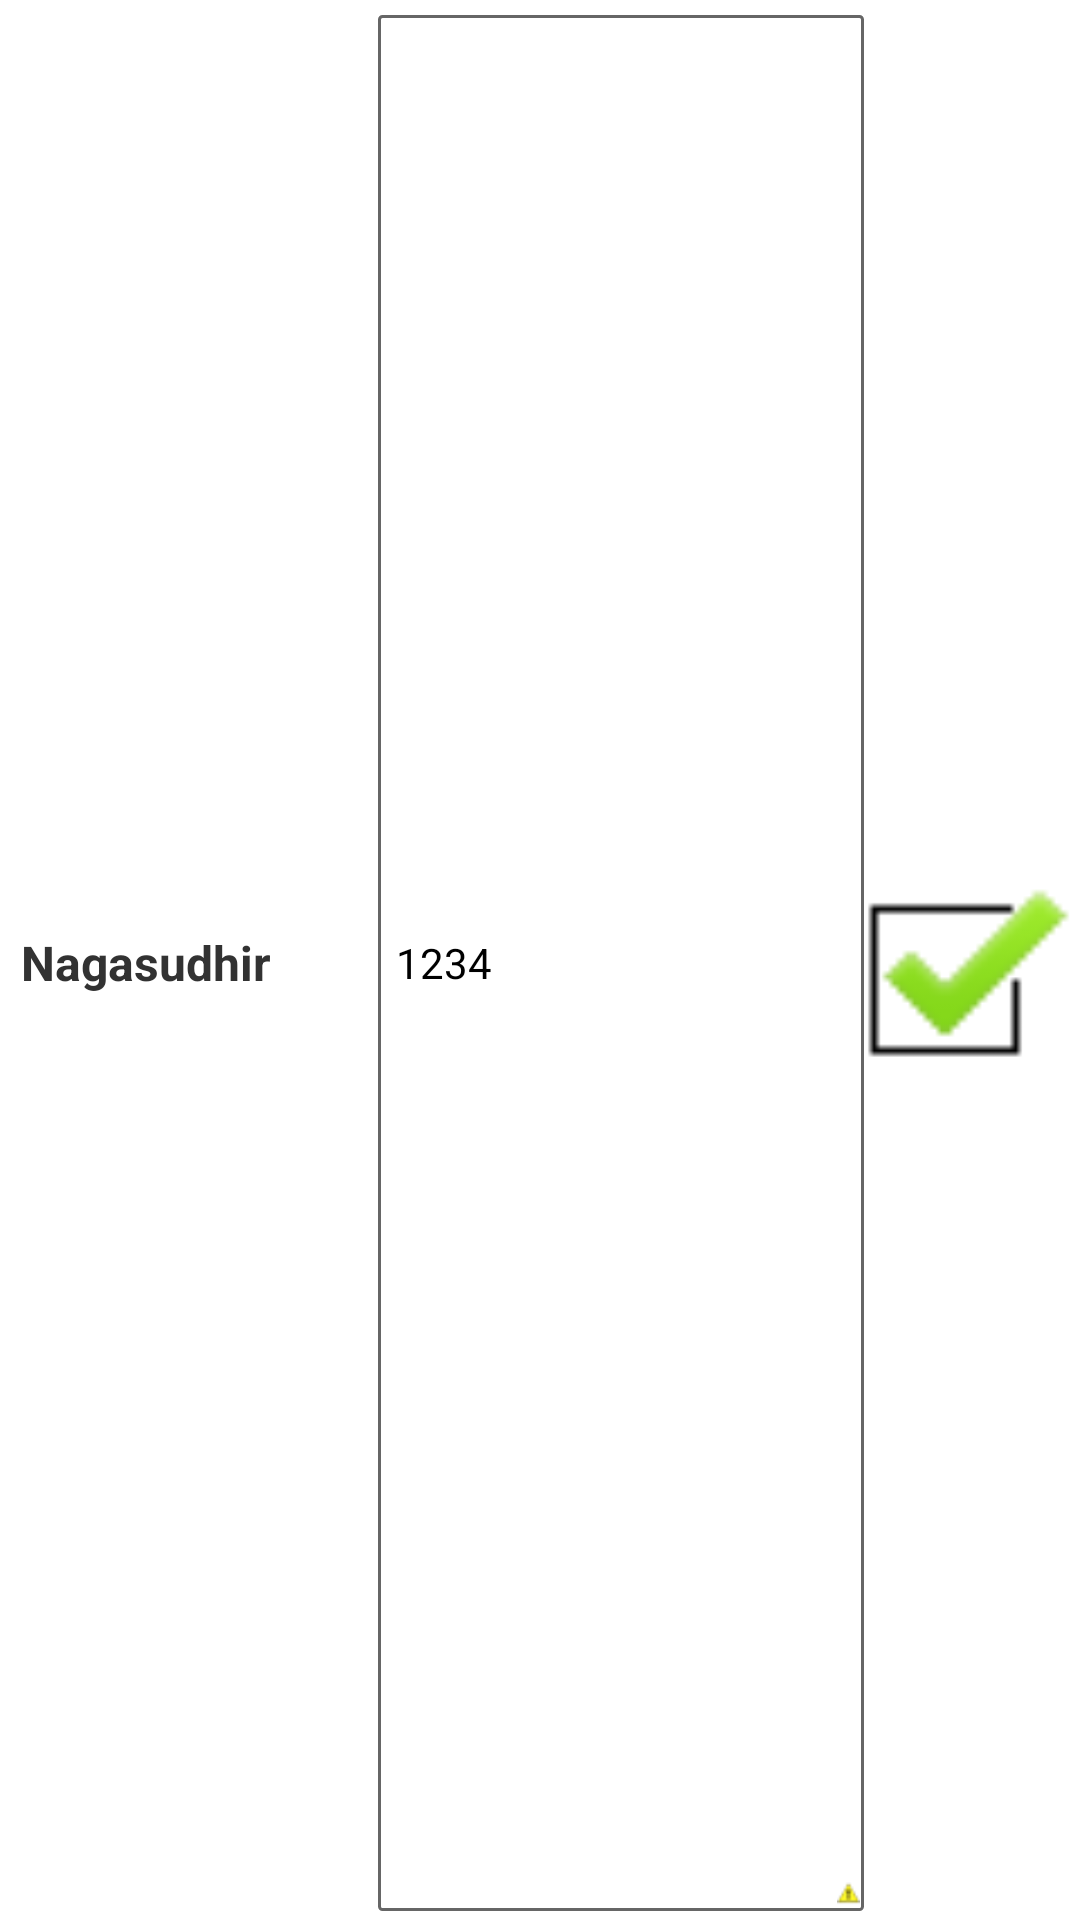

Point at icon controls on the screen. Image size 1080 × 1920, points as point (x, y).
tick: point (968, 973)
